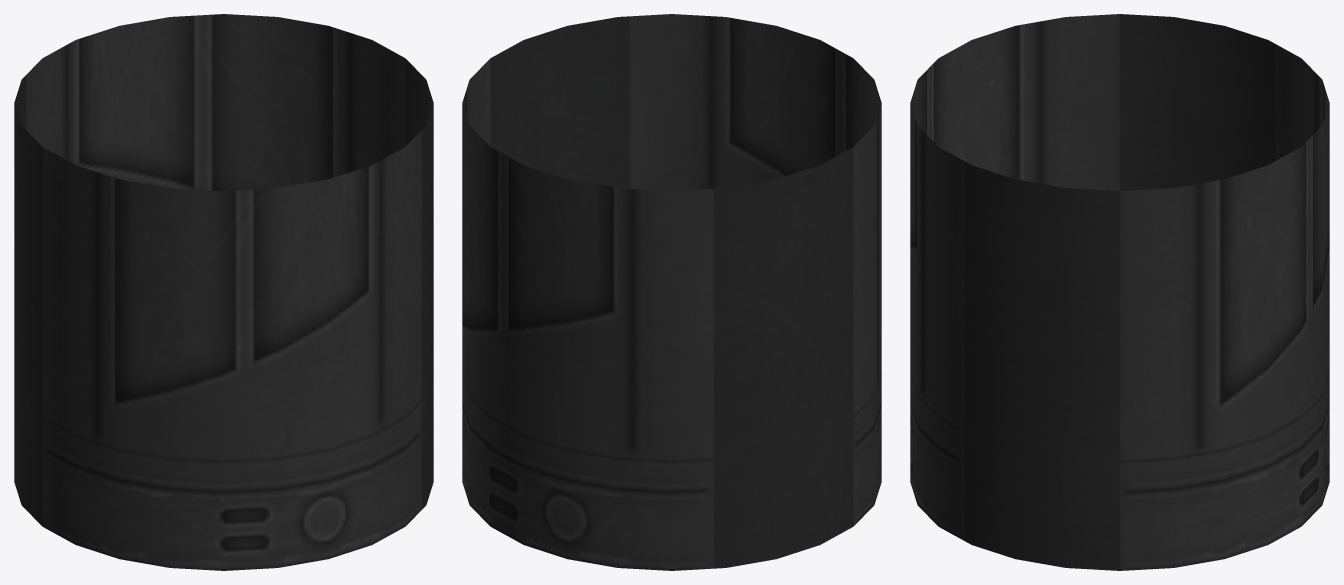
The model's file is arrow_fuel_tank_s1_2.obj.
3 renders of one model, left to right at view 1: azimuth 30°, elevation 25°; view 2: azimuth 150°, elevation 25°; view 3: azimuth 270°, elevation 25°, orthographic.
Parts seen in each view (by area): view 1: mesh; view 2: mesh; view 3: mesh.
Boxes of the visible parts, x1,y1,x2,y2 form: mesh: [14, 14, 433, 570]; mesh: [462, 14, 881, 570]; mesh: [910, 14, 1329, 570].
Bounding box in the file's own units: 1.25 × 1.25 × 1.25.
